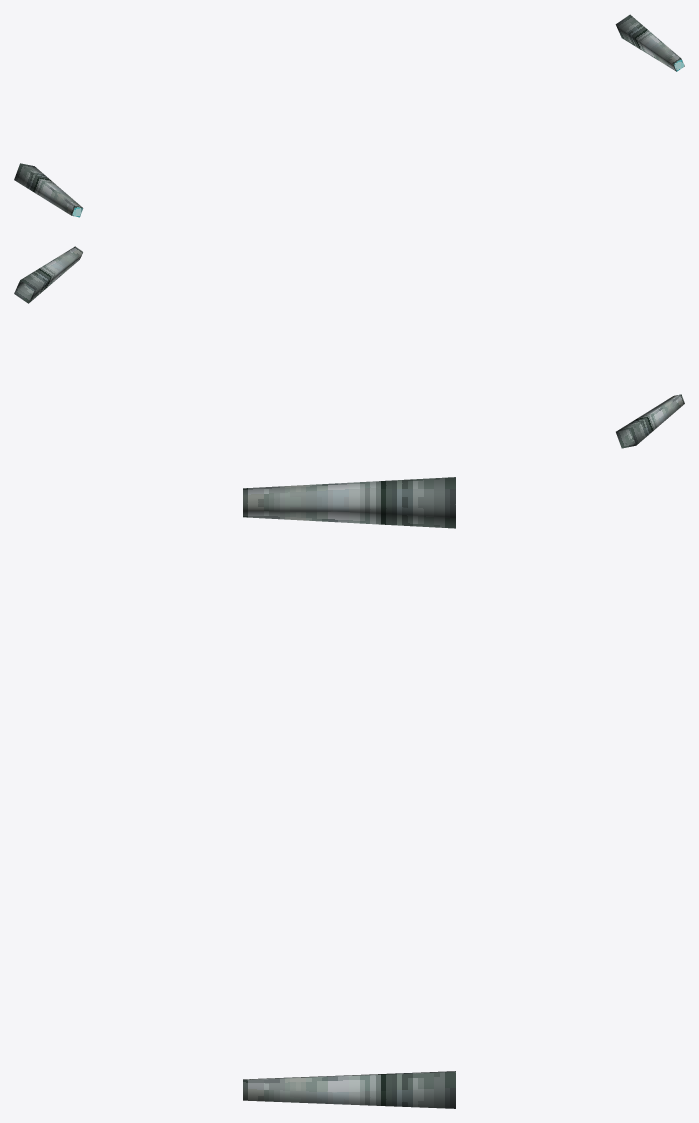
The model's file is black_sun_fighter_light_weapon_s02_l3.fbx.
3 renders of one model, top to bottom at view 1: azimuth 30°, elevation 25°; view 2: azimuth 150°, elevation 25°; view 3: azimuth 270°, elevation 25°, orthographic. The views are drawn at different scales.
Visible parts, largest first — view 1: mesh_node; view 2: mesh_node; view 3: mesh_node.
Boxes of the visible parts, <box> form: mesh_node: <box>14,14,684,217</box>; mesh_node: <box>14,246,684,448</box>; mesh_node: <box>243,477,455,1108</box>.
Bounding box in the file's own units: 11.4 × 0.379 × 1.69.
1 material, 1 textured.
